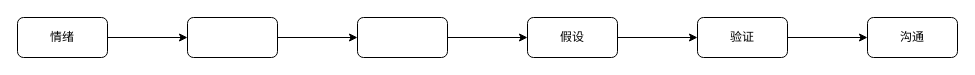
Some shapes in this 975 by 75 pixel diagram are drawn without their labels. The shapes that lost their labels are listed below. From the top down, each one's box as (x1, y1, x2, y2) in pixels, then its label:
(186, 16, 278, 58): 思维
(356, 16, 448, 58): 流程
